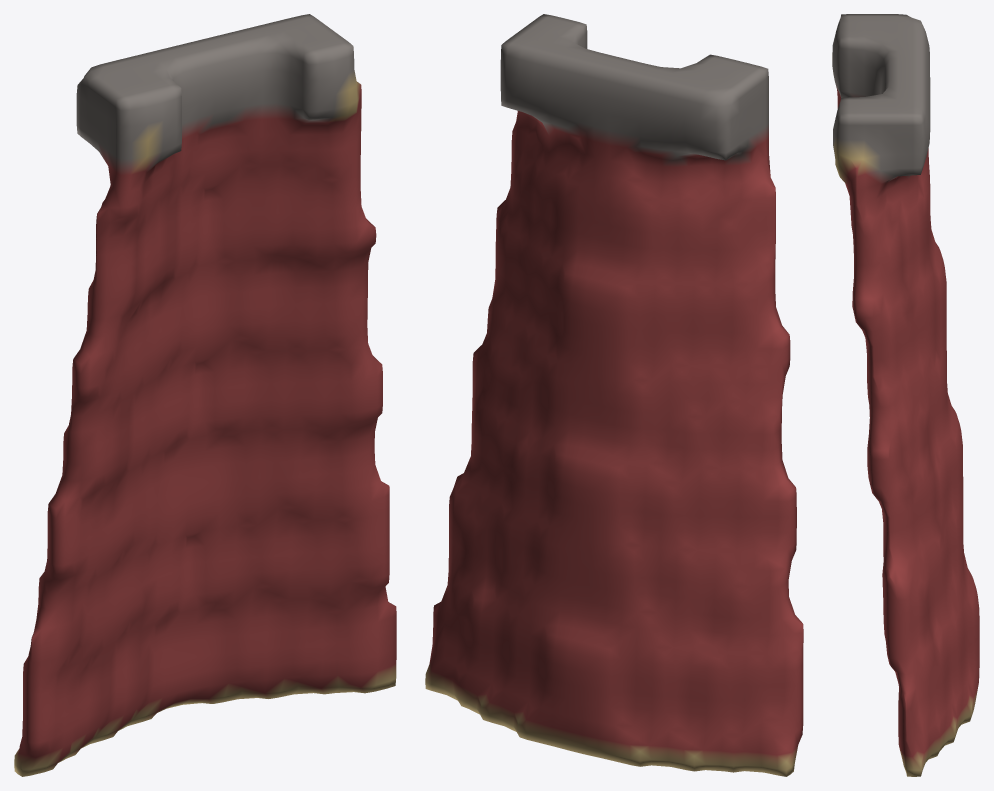
Rendered from plate_rare_cloak_lod1.glb.
3 views of the same model, side by side, from view 1: azimuth 30°, elevation 25°; view 2: azimuth 150°, elevation 25°; view 3: azimuth 270°, elevation 25° (orthographic). The views are drawn at different scales.
Visible parts, largest first — view 1: plate_rare_cloak_lod1; view 2: plate_rare_cloak_lod1; view 3: plate_rare_cloak_lod1.
Boxes of the visible parts, x1,y1,x2,y2 form: plate_rare_cloak_lod1: (14,14,396,776); plate_rare_cloak_lod1: (425,14,803,776); plate_rare_cloak_lod1: (832,14,979,776).
Size of the model in its own units: 0.5757 by 1.01 by 0.2148.
